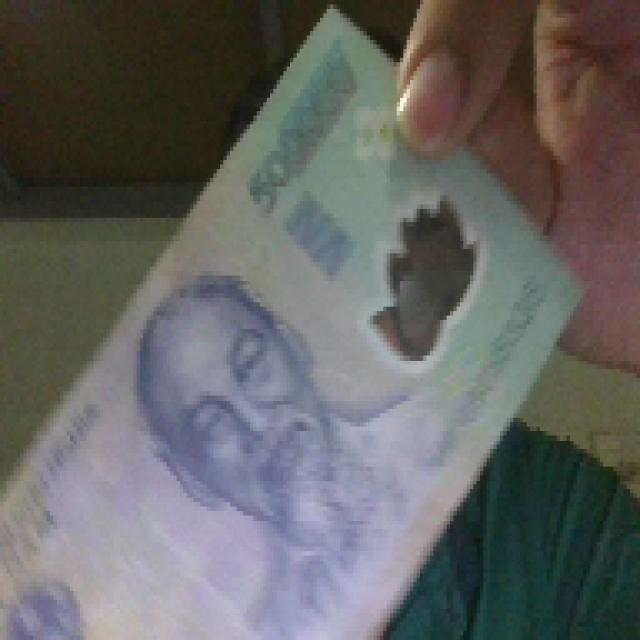500 000 VND: (0, 0, 590, 636)
